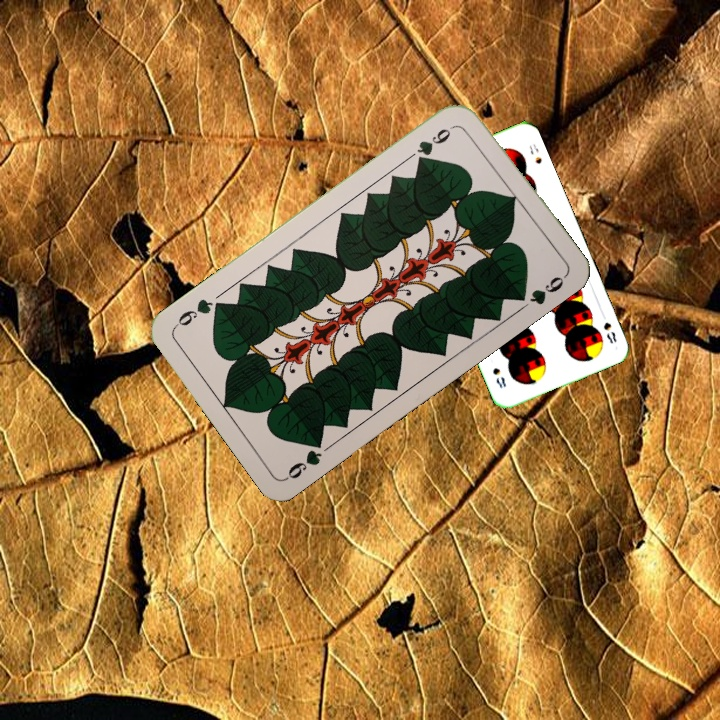G9: (407, 121, 458, 167), (282, 433, 326, 483)
S8: (599, 318, 619, 346)
